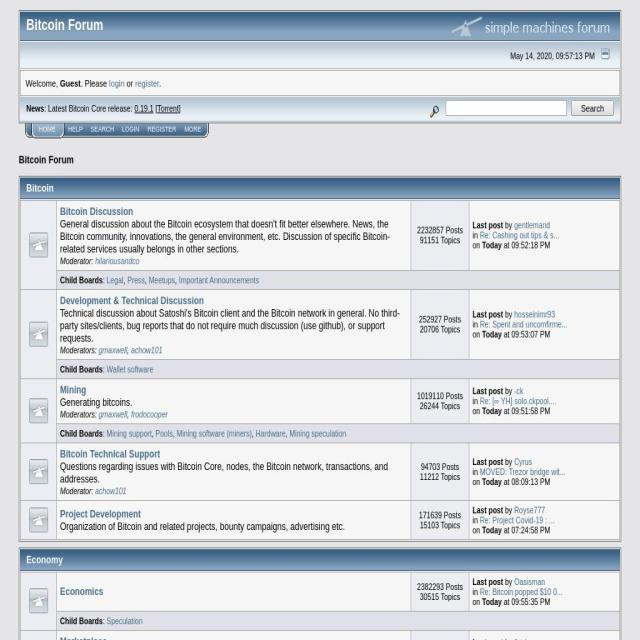field: (445, 100, 567, 116), (572, 100, 614, 116)
image: (452, 14, 612, 38), (28, 320, 49, 348), (28, 457, 49, 485), (28, 231, 49, 258), (28, 397, 49, 424), (28, 506, 49, 533), (28, 587, 49, 614), (601, 49, 610, 60), (430, 106, 439, 117)
link: (60, 293, 204, 307), (60, 447, 160, 460), (60, 507, 141, 520), (60, 204, 133, 218), (480, 318, 568, 329), (179, 274, 260, 285), (480, 229, 560, 240), (480, 466, 566, 476), (479, 395, 556, 406), (480, 586, 562, 596), (480, 514, 554, 525), (18, 153, 74, 167), (176, 428, 252, 438), (60, 584, 103, 598), (289, 428, 346, 438), (26, 552, 63, 566), (95, 255, 140, 266), (514, 308, 555, 320), (106, 364, 153, 374), (106, 428, 152, 438), (130, 408, 168, 419), (514, 219, 550, 230), (106, 615, 142, 626), (26, 181, 54, 194), (60, 382, 86, 396), (130, 344, 162, 355), (95, 485, 127, 496), (514, 504, 545, 515), (98, 344, 128, 355), (98, 408, 128, 419), (514, 576, 545, 586), (256, 428, 286, 438), (148, 274, 175, 285), (60, 634, 107, 640), (135, 78, 160, 89), (148, 125, 176, 133), (157, 104, 179, 114), (134, 104, 154, 114), (106, 274, 124, 285), (127, 274, 145, 285), (90, 125, 114, 133), (155, 428, 173, 438), (514, 456, 532, 466), (109, 78, 124, 89), (38, 125, 56, 133), (184, 125, 202, 133), (122, 125, 139, 133), (68, 125, 83, 133), (514, 385, 523, 396), (513, 636, 536, 640)
text: (60, 306, 400, 344), (60, 217, 390, 255), (60, 459, 388, 485), (60, 519, 345, 533), (26, 17, 103, 33), (60, 395, 132, 408), (44, 104, 134, 114), (510, 51, 595, 61), (417, 580, 464, 592), (501, 239, 551, 250), (501, 328, 551, 339), (501, 405, 551, 416), (501, 524, 551, 535), (417, 224, 464, 235), (417, 390, 464, 401), (501, 476, 551, 486), (501, 596, 551, 606), (419, 590, 460, 602), (419, 509, 462, 520), (60, 274, 102, 285), (60, 615, 102, 626), (419, 234, 460, 245), (419, 400, 460, 411), (419, 471, 460, 482), (419, 519, 460, 530), (419, 314, 462, 324), (60, 344, 99, 355), (60, 408, 99, 419), (421, 461, 460, 472), (60, 364, 102, 374), (60, 428, 102, 438), (419, 324, 460, 334), (60, 255, 95, 266), (60, 485, 95, 496), (26, 78, 60, 89), (473, 308, 503, 320), (473, 219, 503, 230), (473, 385, 503, 396), (473, 504, 503, 515), (81, 78, 110, 89), (473, 456, 503, 466), (473, 576, 503, 586), (60, 78, 81, 89), (482, 239, 502, 250), (482, 328, 502, 339), (482, 405, 502, 416), (482, 524, 502, 535), (482, 476, 502, 486), (482, 596, 502, 606), (26, 104, 44, 114), (502, 308, 514, 320), (124, 78, 136, 89), (502, 219, 514, 230), (502, 385, 514, 396), (502, 504, 514, 515), (472, 636, 503, 640), (502, 456, 514, 466), (502, 576, 514, 586), (472, 239, 482, 250), (472, 328, 482, 339), (472, 405, 482, 416), (472, 524, 482, 535), (472, 476, 482, 486), (472, 596, 482, 606), (472, 229, 480, 240), (472, 318, 480, 329), (472, 395, 480, 406), (472, 514, 480, 525), (25, 124, 31, 138), (472, 466, 480, 476), (472, 586, 480, 596), (205, 124, 210, 138), (102, 274, 108, 285), (102, 615, 108, 626), (102, 364, 108, 374), (102, 428, 108, 438), (172, 428, 178, 438), (31, 124, 35, 138), (60, 124, 64, 138), (123, 274, 128, 285), (144, 274, 149, 285), (153, 104, 158, 114), (151, 428, 156, 438), (251, 428, 256, 438), (502, 636, 514, 640), (175, 274, 179, 285), (127, 344, 131, 355), (127, 408, 131, 419), (285, 428, 289, 438), (159, 78, 161, 89), (179, 104, 181, 114)
